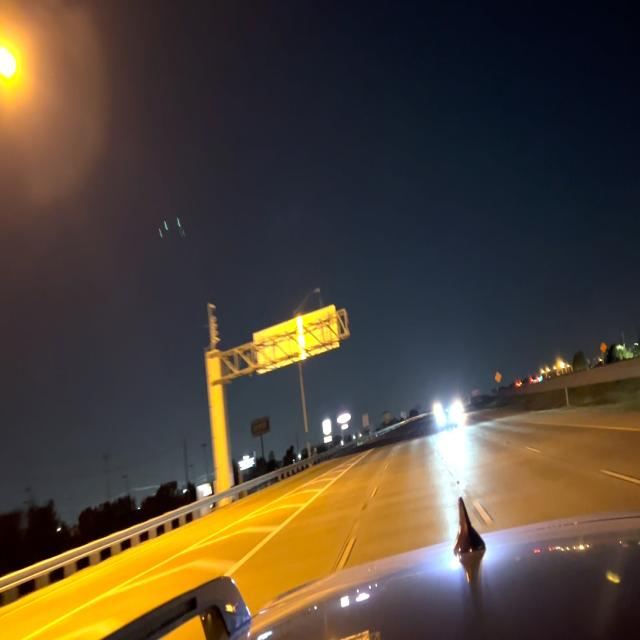back-of-sign: (252, 303, 340, 380)
